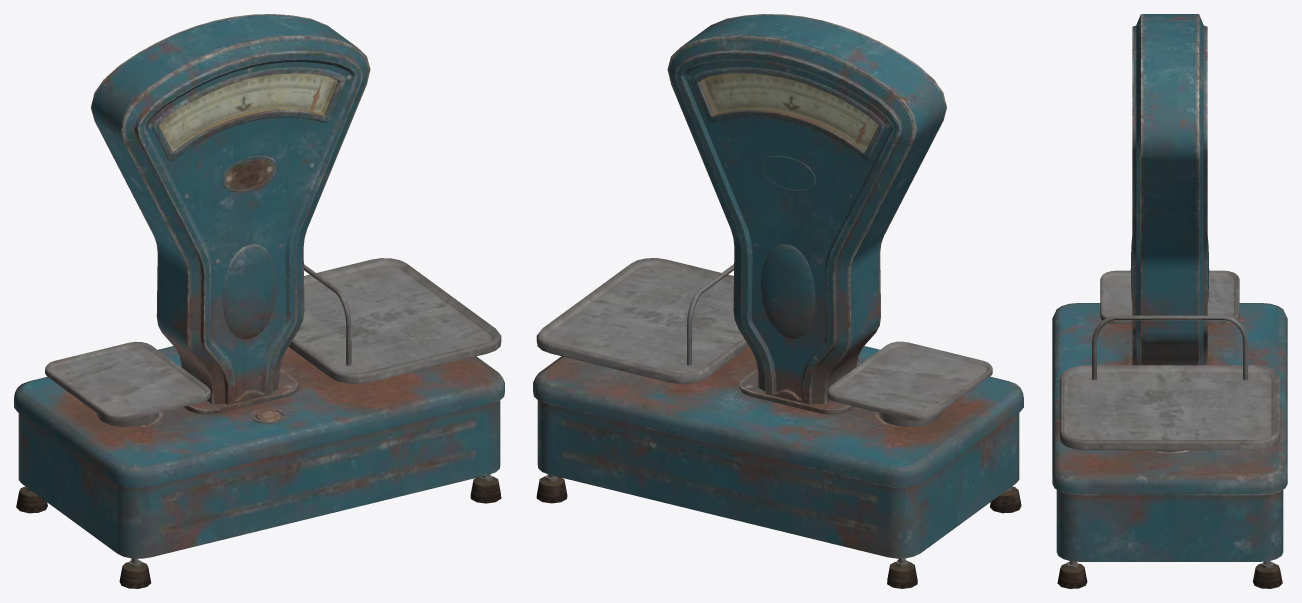
Rendered from butcher_scale.glb.
The picture shows the model from 3 angles, left to right: view 1: azimuth 30°, elevation 25°; view 2: azimuth 150°, elevation 25°; view 3: azimuth 270°, elevation 25°; orthographic projection. The views are drawn at different scales.
Parts seen in each view (by area): view 1: defaultMaterial (×2); view 2: defaultMaterial (×2); view 3: defaultMaterial.
Part boxes in pixels (left/top/right/bottom): defaultMaterial (×2): left=14, top=14, right=504, bottom=588; defaultMaterial (×2): left=533, top=14, right=1023, bottom=588; defaultMaterial: left=1052, top=14, right=1287, bottom=588.
Bounding box in the file's own units: 1.7 × 2 × 0.9454.
Materials: 2 (2 with a texture image).
